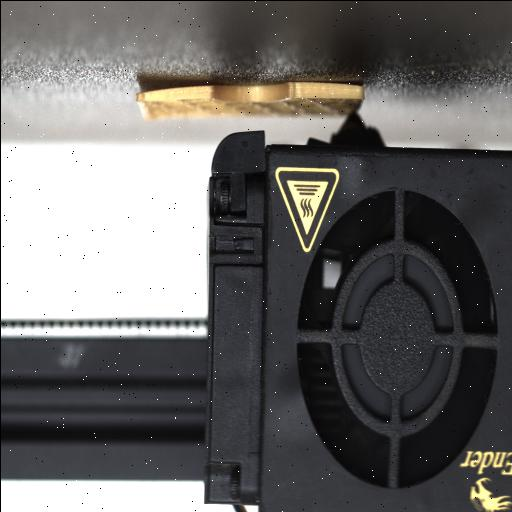warp: (126, 76, 206, 108)
